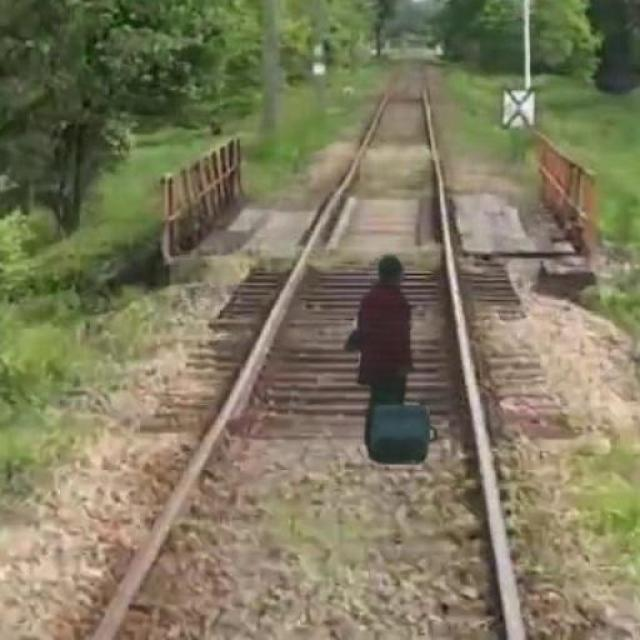people: (344, 245, 435, 426)
